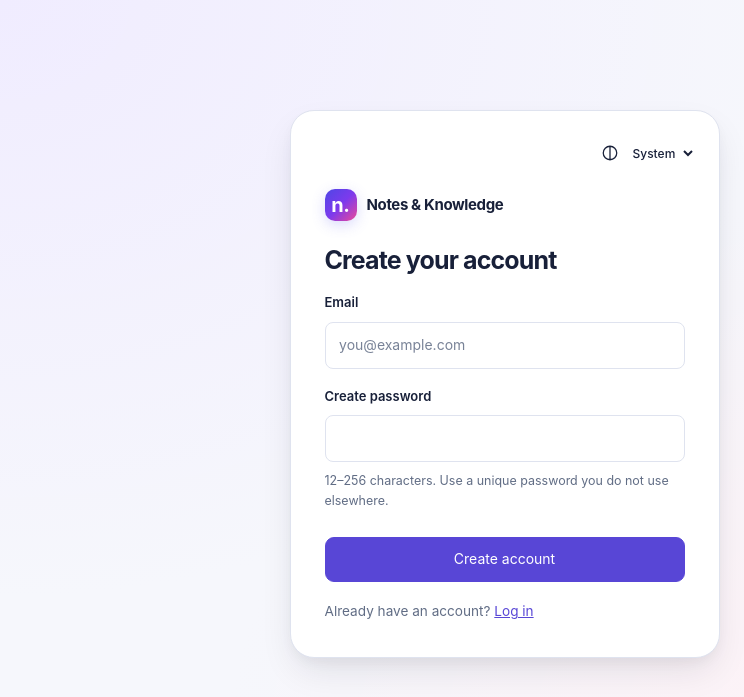
Test case: authentication browser journey › uses enumeration-safe signup copy
Expected: the heading "Create your account" is shown, [324,245,556,275]
Type "person@example.test" into the field labelled "Email".
click(504, 345); type("person@example.test")  # box [324,322,684,369]
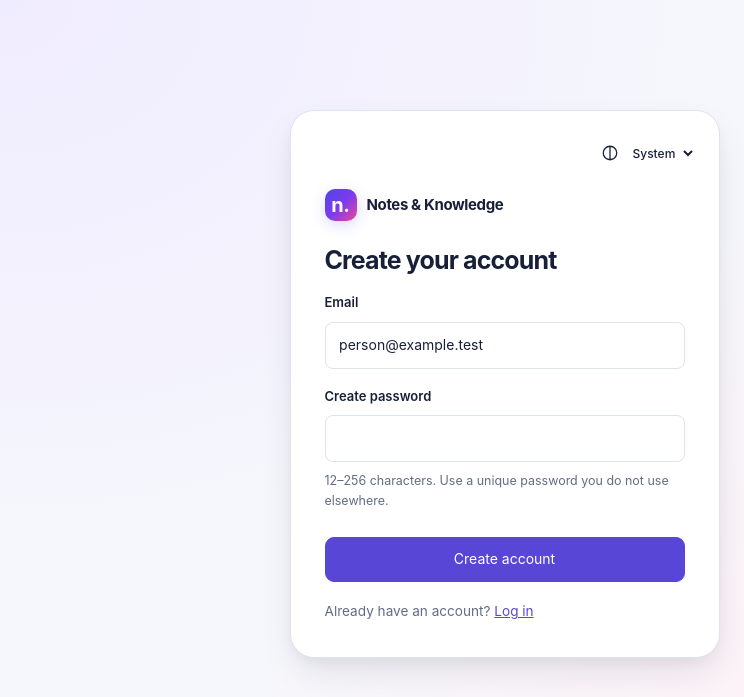
Type "Synthetic-password-123!" into the password field labelled "Create password".
click(504, 439); type("Synthetic-password-123!")  # box [324,415,684,462]
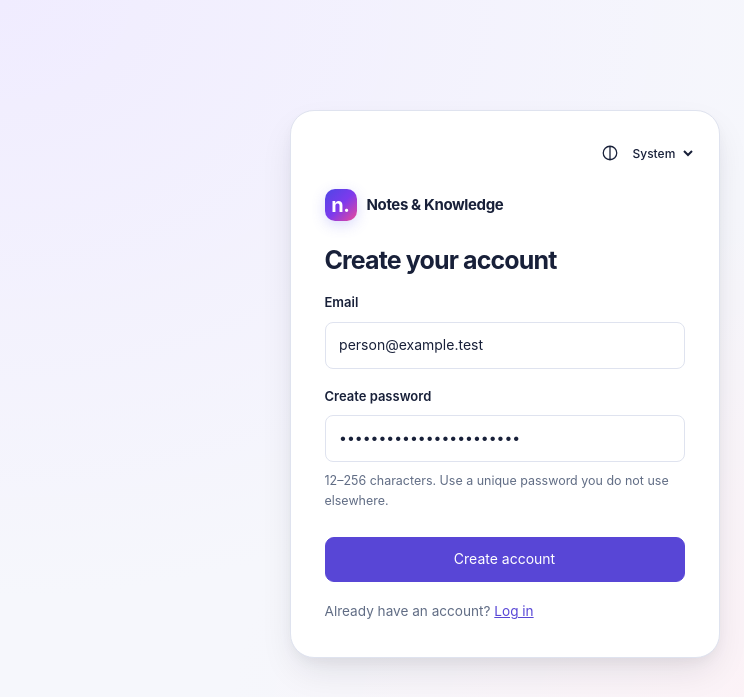
Click the button "Create account".
click(504, 559)  # box [324,537,684,582]
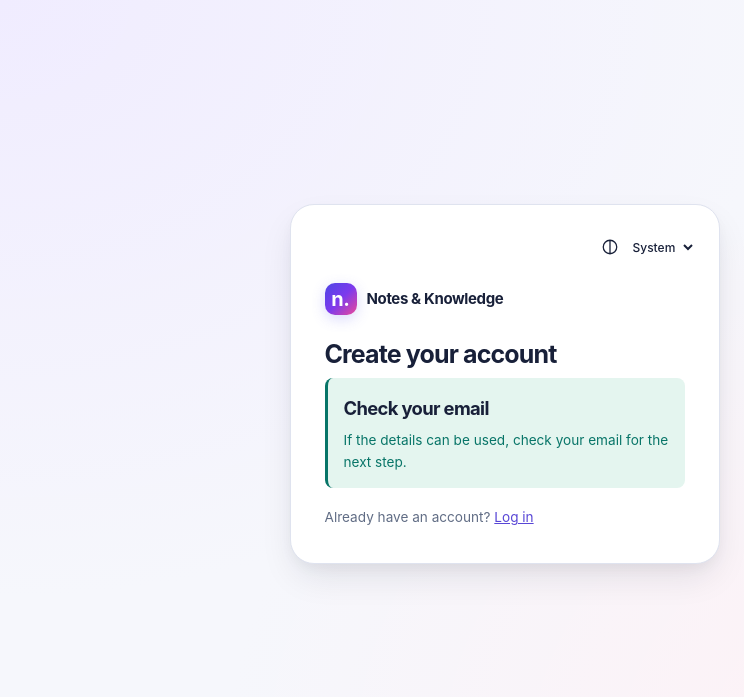
Expected: the text "If the details can be used" is shown, [344,432,668,470]
